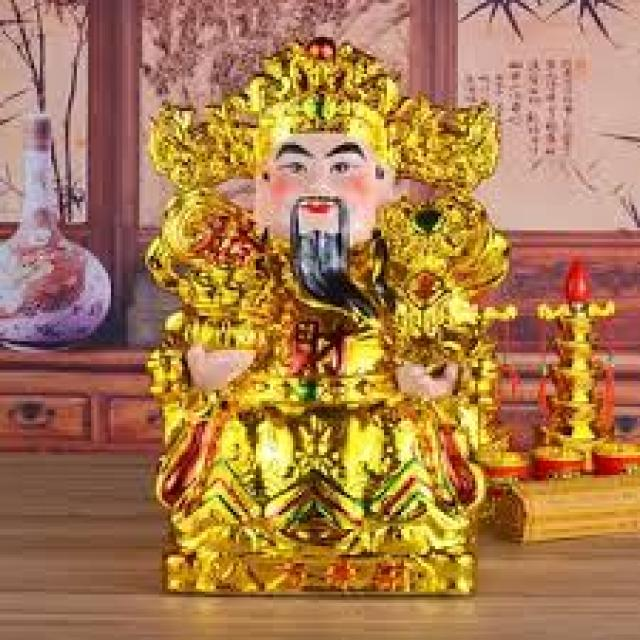Cai shen: (154, 44, 499, 526)
